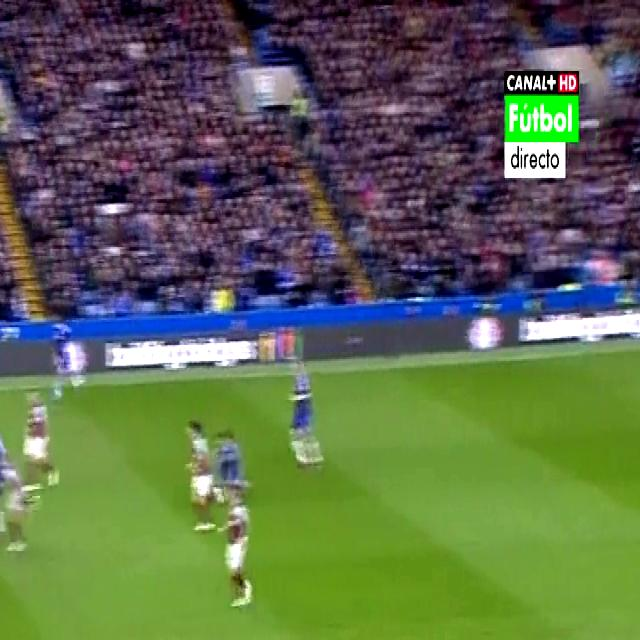soccer-player: (217, 486, 263, 634), (282, 348, 332, 474), (172, 397, 216, 531), (20, 387, 60, 506), (0, 459, 34, 567), (44, 324, 92, 399), (215, 415, 241, 515), (0, 403, 5, 537)
